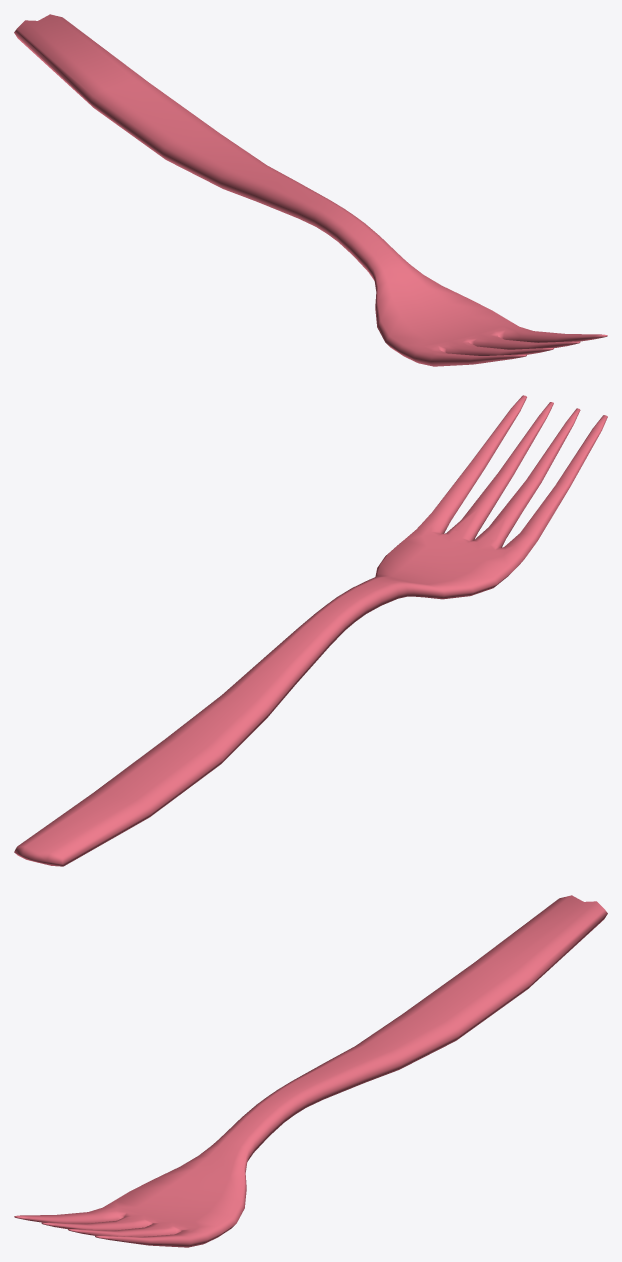
File: fork 1.fbx
3 views of the same model, one above another, from view 1: azimuth 30°, elevation 25°; view 2: azimuth 150°, elevation 25°; view 3: azimuth 330°, elevation 25° (orthographic).
Visible parts, largest first — view 1: Cube.001; view 2: Cube.001; view 3: Cube.001.
Boxes of the visible parts, <box> form: Cube.001: <box>14,14,607,366</box>; Cube.001: <box>14,395,607,866</box>; Cube.001: <box>14,895,607,1247</box>.
Bounding box in the file's own units: 147 × 103 × 1187.
